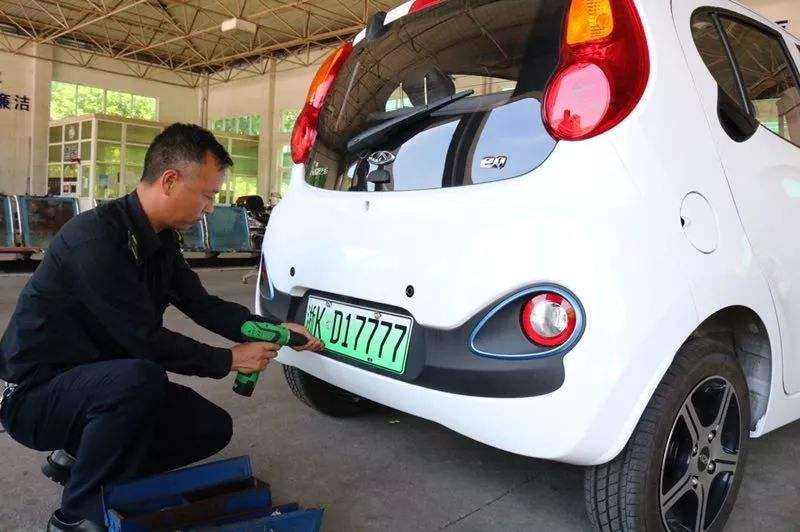plate: (292, 275, 424, 389)
